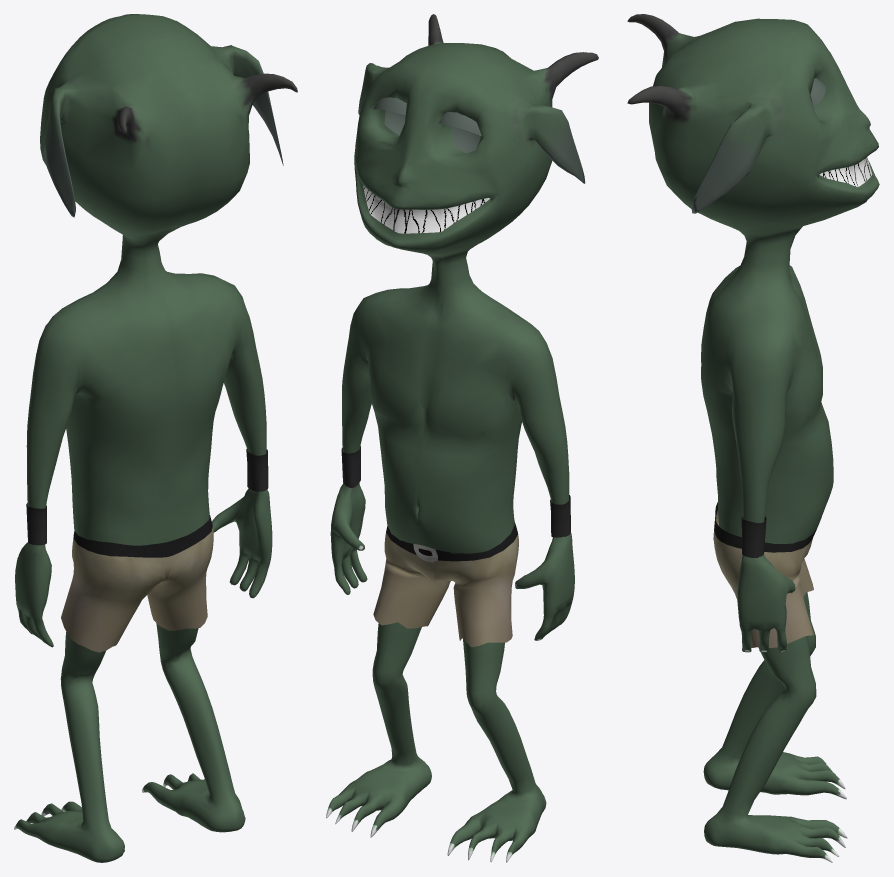
File: lwjglcharactergoblin18.obj
The picture shows the model from 3 angles, left to right: view 1: azimuth 30°, elevation 25°; view 2: azimuth 150°, elevation 25°; view 3: azimuth 270°, elevation 25°; orthographic projection. The views are drawn at different scales.
Visible parts, largest first — view 1: Cube.002; view 2: Cube.002; view 3: Cube.002.
Part boxes in pixels (x1,y1,x2,y2): Cube.002: [14, 14, 297, 862]; Cube.002: [326, 14, 598, 862]; Cube.002: [627, 14, 879, 862].
Size of the model in its own units: 1.17 by 3.71 by 1.07.
